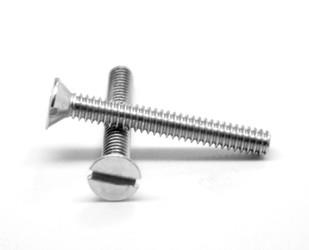screw: (89, 152, 139, 204)
